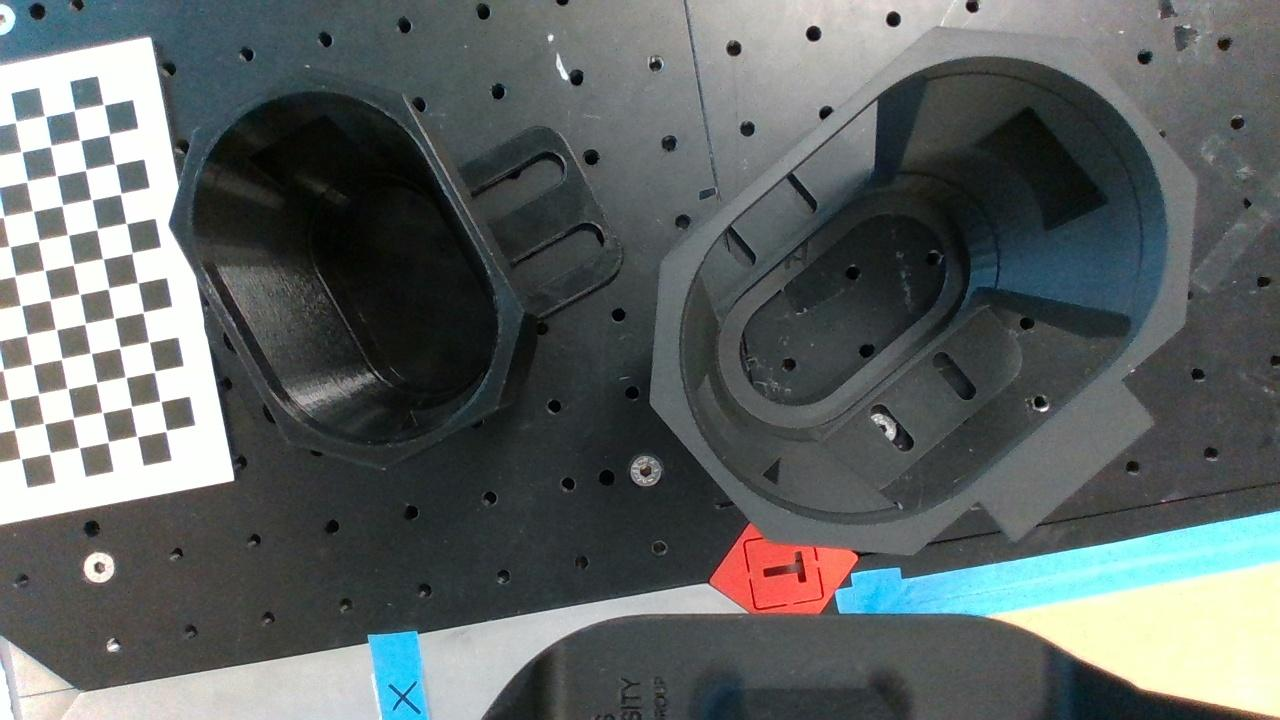big_interface: (649, 26, 1199, 557)
small_interface: (168, 66, 526, 468)
